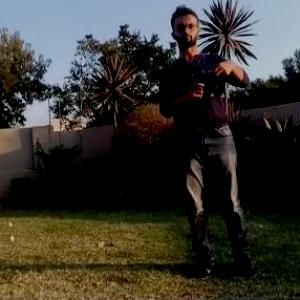follow: (156, 0, 266, 285)
